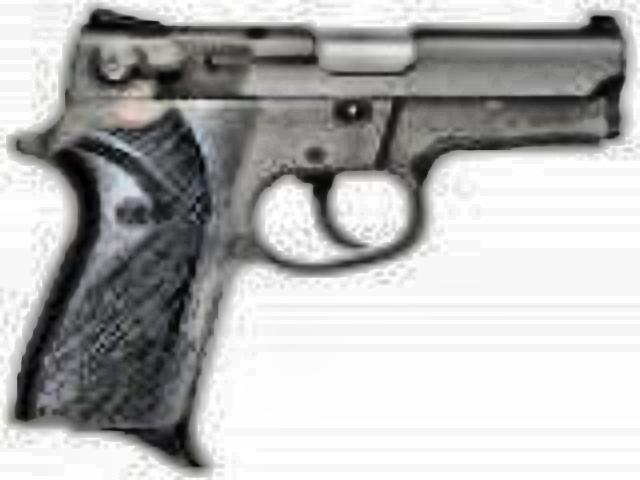pistol: (0, 4, 628, 456)
